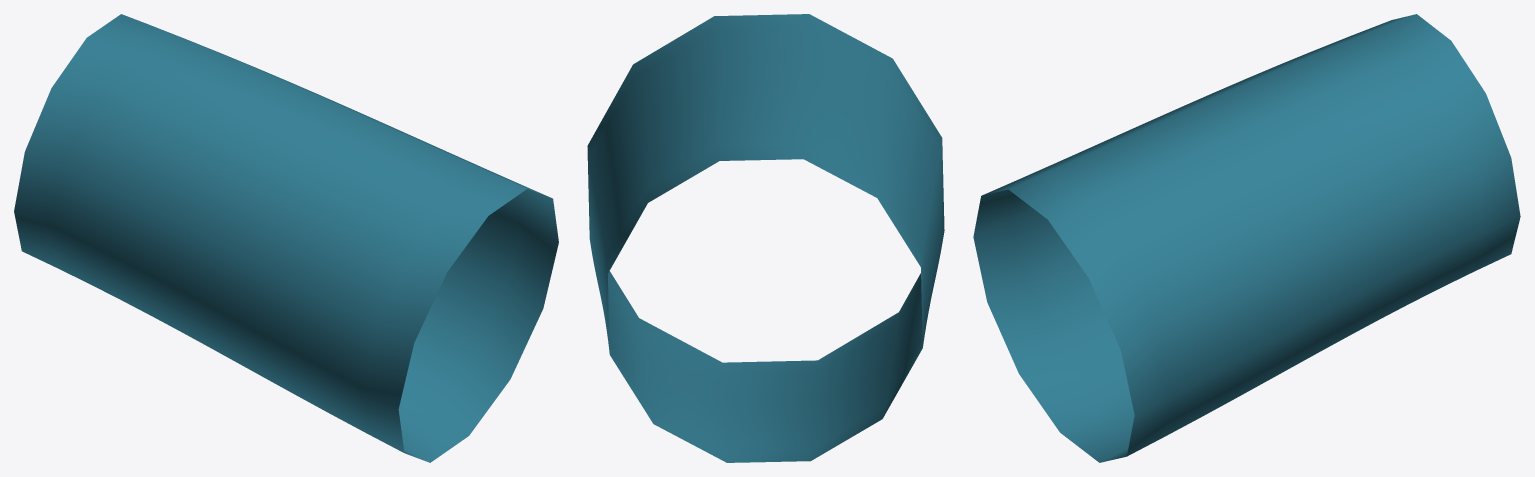
3 renders of one model, left to right at view 1: azimuth 30°, elevation 25°; view 2: azimuth 150°, elevation 25°; view 3: azimuth 270°, elevation 25°, orthographic. The views are drawn at different scales.
Visible parts, largest first — view 1: 右主支气管; view 2: 右主支气管; view 3: 右主支气管.
Boxes of the visible parts, x1,y1,x2,y2 form: 右主支气管: (14, 14, 558, 462); 右主支气管: (587, 14, 944, 462); 右主支气管: (973, 14, 1520, 462).
Size of the model in its own units: 0.0393 by 0.0309 by 0.0452.
